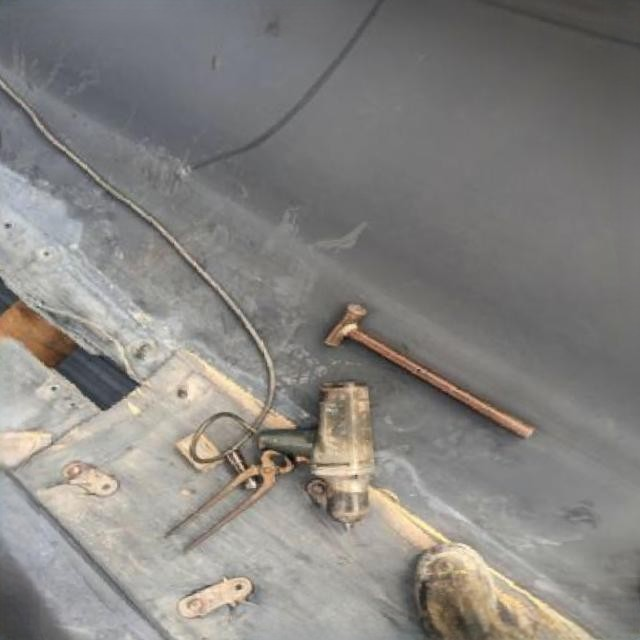Hole: (0, 272, 142, 414)
